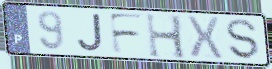9: (36, 10, 65, 51)
F: (107, 12, 146, 56)
H: (144, 11, 189, 61)
J: (76, 13, 105, 53)
S: (225, 18, 262, 62)
X: (185, 14, 225, 60)
